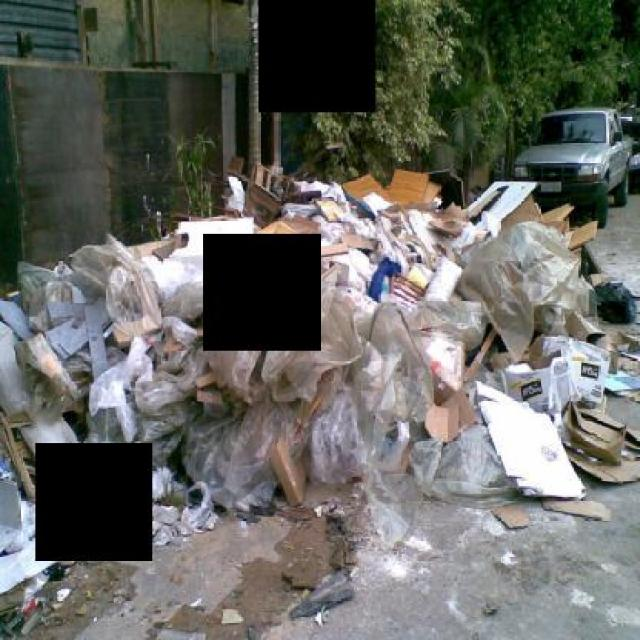plastic bag: (12, 231, 440, 523), (456, 222, 592, 369), (403, 420, 526, 514), (32, 477, 156, 541), (400, 295, 489, 351), (414, 328, 469, 394), (0, 317, 32, 414), (2, 494, 48, 554), (595, 277, 637, 325)
